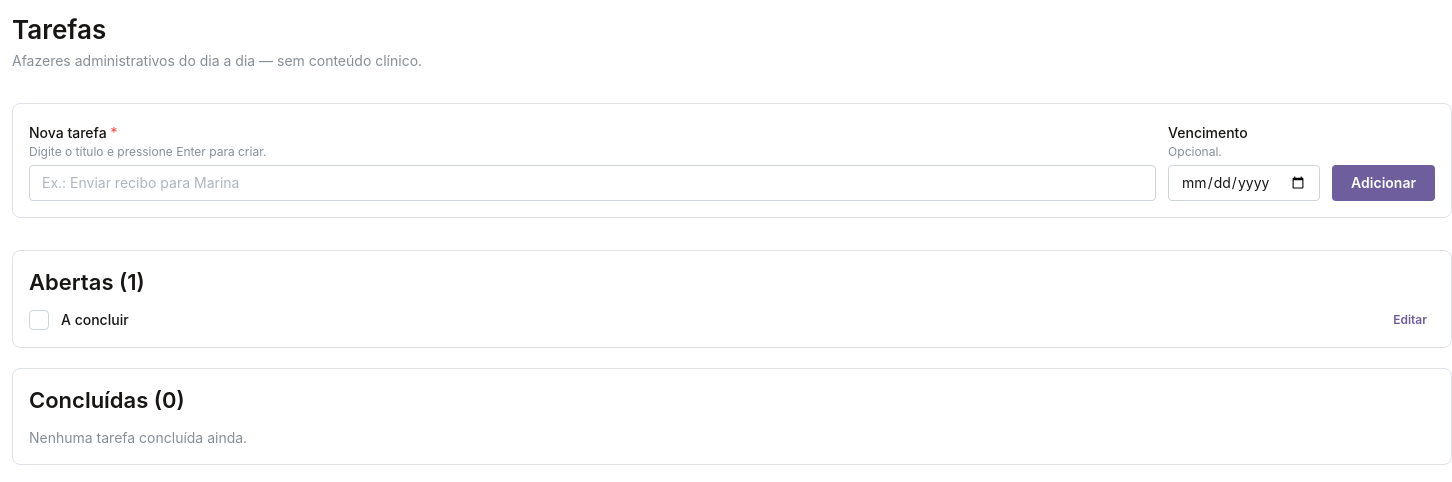
it: TasksPage — conclusão e reabertura com um clique › conclui uma tarefa ao marcar o checkbox, movendo-a para a seção de concluídas
Click the checkbox with test id "task-toggle-t1" at (39, 320), box [29,310,49,330]
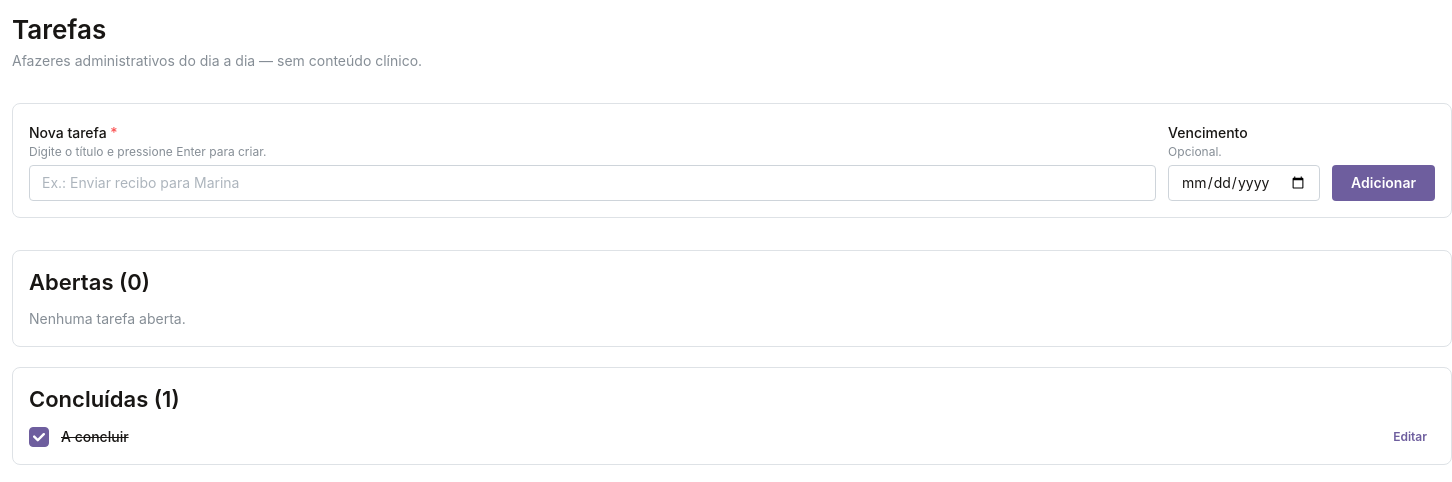
Result: the text "A concluir" is shown at [61,427,129,448]
